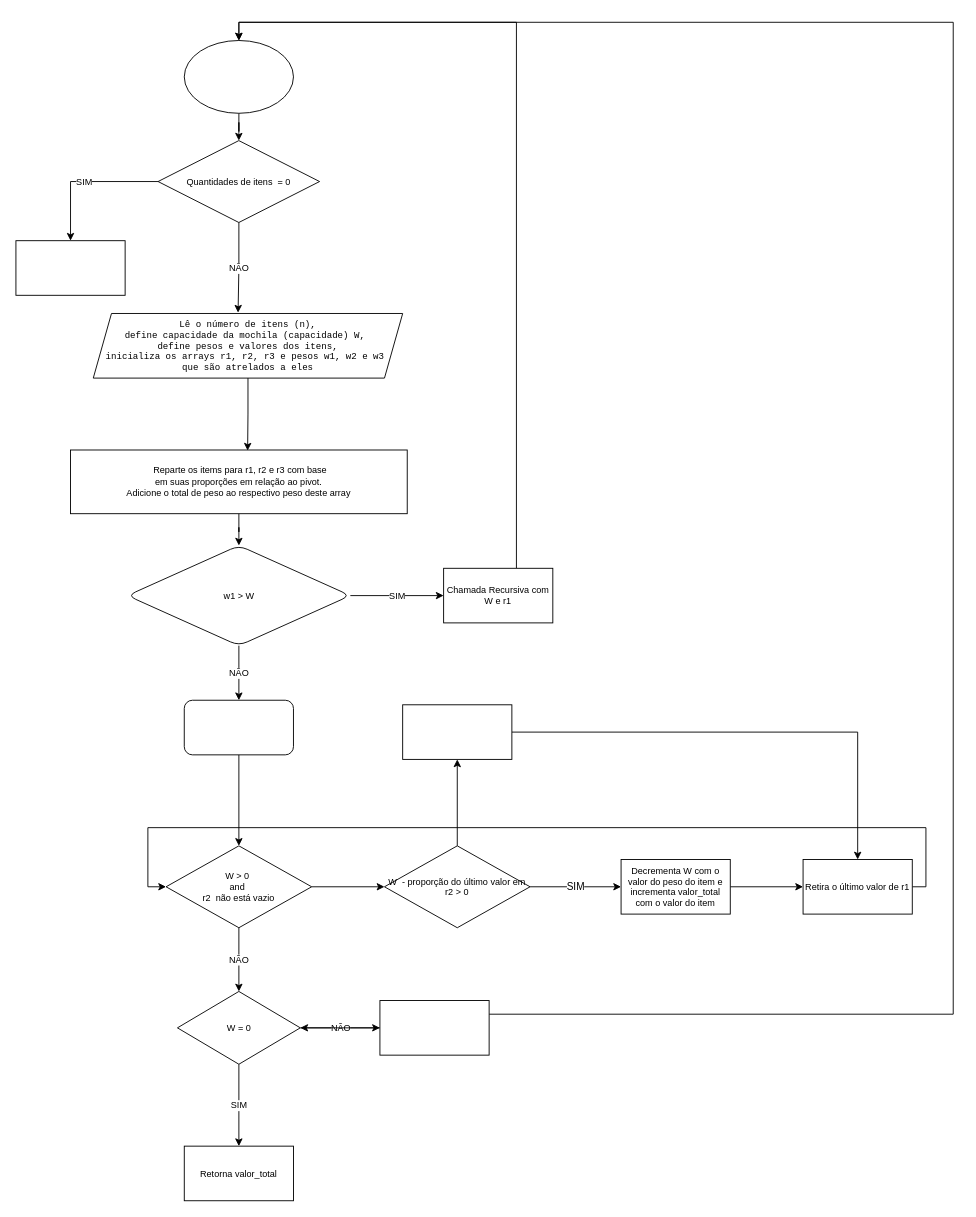
Image size: 976x1217. Some labels were removed from this diagram. The box of each missing label's shape, as (x1, y1, x2, y2) in pixels:
Decrementa W a partir de w1; valor_total = v1: (183, 699, 293, 755)
Inicio: (183, 40, 293, 113)
Retorna 0: (15, 240, 125, 295)
Retorna valor_total + Recursão com W e r3: (379, 1000, 489, 1055)
valor_total recebe apenas uma porção do algoritmo e zera a capacidade de mochila: (402, 704, 512, 759)
